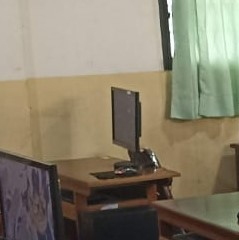monitor: (0, 148, 66, 238), (111, 86, 141, 154)
